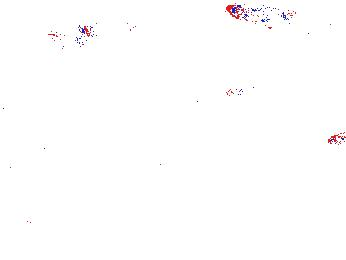red belly glassfish: (226, 86, 263, 99), (327, 133, 346, 150)
redtail glassfish: (73, 21, 141, 58), (227, 3, 299, 30), (47, 24, 91, 57)
